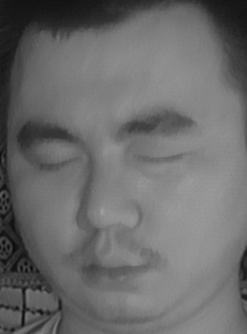blink: (133, 138, 192, 176), (33, 147, 80, 182)
mouth: (73, 243, 157, 295)
